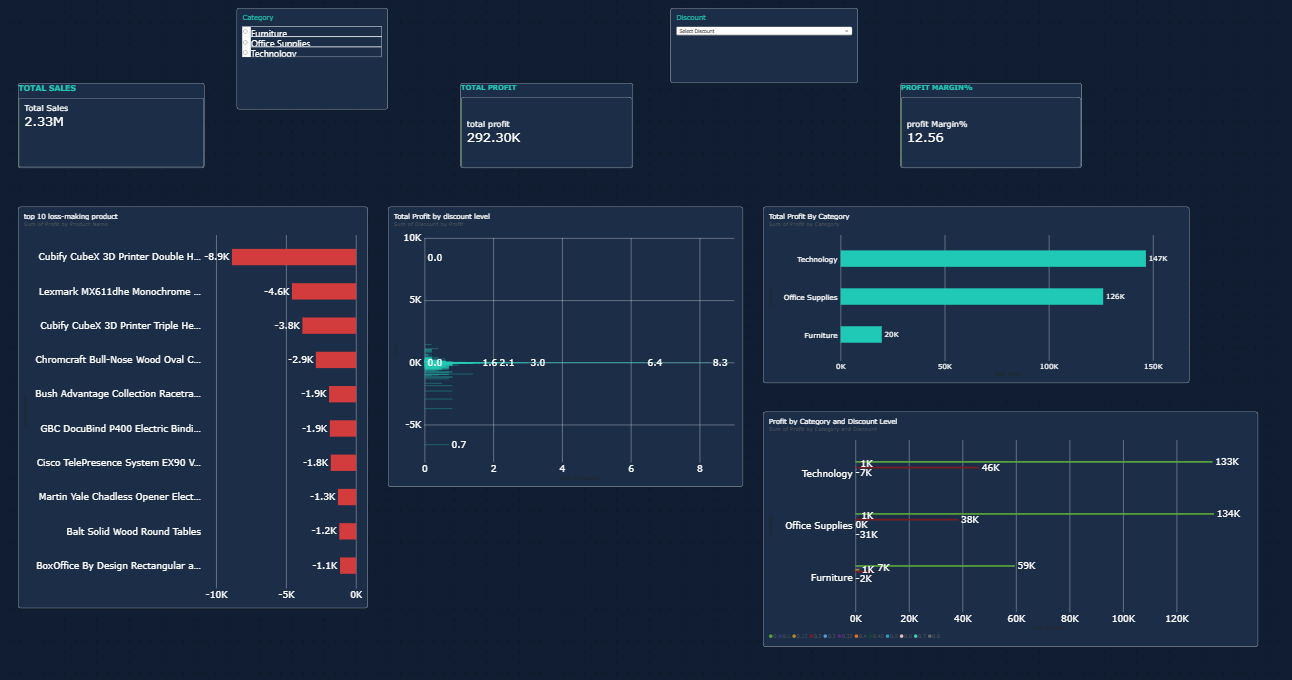

This screenshot's page, from the dashboard's own definition file:
{"tool":"powerbi","page":{"name":"Page 1","canvas":[3840,2160],"ordinal":0},"visuals":[{"type":"barChart","title":"Total Profit By Category","fields":{"Category":["Orders.Category"],"Y":["Sum(Orders.Profit)"]},"box":[2259.7,734.8,1259.1,520.6],"z":0},{"type":"clusteredBarChart","title":"Total Profit by discount level","fields":{"Category":["Orders.Profit"],"Y":["Sum(Orders.Discount)"]},"box":[1152,734.8,1048.6,827.1],"z":1000},{"type":"clusteredBarChart","title":"top 10 loss-making product","fields":{"Category":["Orders.Product Name"],"Y":["Sum(Orders.Profit)"]},"box":[59.1,734.8,1033.8,1185.2],"z":2000},{"type":"clusteredBarChart","title":"Profit by Category and Discount Level","fields":{"Category":["Orders.Category"],"Series":["Orders.Discount"],"Y":["Sum(Orders.Profit)"]},"box":[2259.7,1340.3,1462.2,694.2],"z":3000},{"type":"cardVisual","title":"TOTAL PROFIT","fields":{"Data":["Orders.total profit"]},"box":[1366.2,369.2,509.5,251.1],"z":4000},{"type":"cardVisual","title":"TOTAL SALES","fields":{"Data":["Orders.Total Sales"]},"box":[59.1,369.2,550.2,251.1],"z":5000},{"type":"cardVisual","title":"PROFIT MARGIN%","fields":{"Data":["category_analysis.profit Margin%"]},"box":[2665.8,369.2,535.4,251.1],"z":6000},{"type":"textbox","box":[59.3,25.4,2383.1,87.5],"z":7000},{"type":"listSlicer","fields":{"Values":["Orders.Category"]},"box":[705.2,147.7,446.8,299.1],"z":8000},{"type":"listSlicer","fields":{"Values":["Orders.Discount"]},"box":[1986.5,147.7,553.8,221.5],"z":9000}]}

Visuals, with their boxes on the page's 3840x2160 design canvas (x1, y1, x2, y2). These are canvas units, not pixel positions in the 1292x680 screenshot, which may show the page scaled, cropped or inside an application window:
"Total Profit By Category" barChart: x1=2260, y1=735, x2=3519, y2=1255
"Total Profit by discount level" clusteredBarChart: x1=1152, y1=735, x2=2201, y2=1562
"top 10 loss-making product" clusteredBarChart: x1=59, y1=735, x2=1093, y2=1920
"Profit by Category and Discount Level" clusteredBarChart: x1=2260, y1=1340, x2=3722, y2=2034
"TOTAL PROFIT" cardVisual: x1=1366, y1=369, x2=1876, y2=620
"TOTAL SALES" cardVisual: x1=59, y1=369, x2=609, y2=620
"PROFIT MARGIN%" cardVisual: x1=2666, y1=369, x2=3201, y2=620
textbox: x1=59, y1=25, x2=2442, y2=113
listSlicer - Orders.Category: x1=705, y1=148, x2=1152, y2=447
listSlicer - Orders.Discount: x1=1986, y1=148, x2=2540, y2=369
